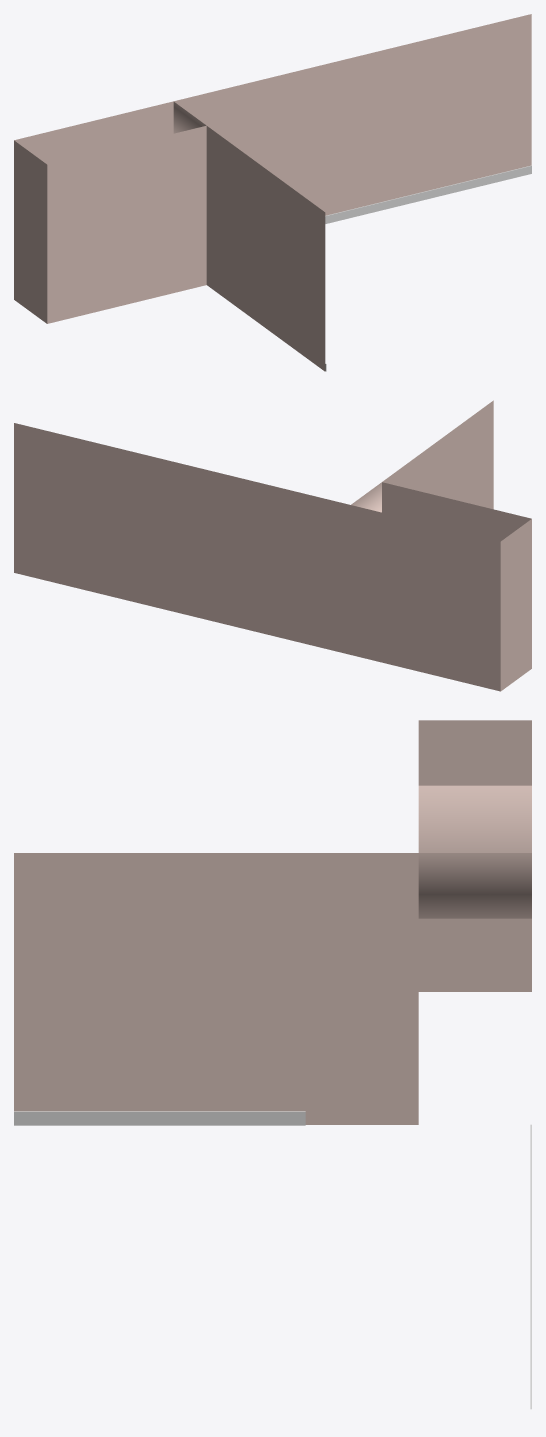
Rendered from Fixed_Walls.fbx.
3 renders of one model, top to bottom at view 1: azimuth 30°, elevation 25°; view 2: azimuth 150°, elevation 25°; view 3: azimuth 270°, elevation 25°, orthographic. The views are drawn at different scales.
Parts seen in each view (by area): view 1: wall.008, wall.002, board.023, wall.039; view 2: wall.008, wall.002, wall.039; view 3: wall.002, wall.008, wall.039, board.029.
Boxes of the visible parts, x1=… form: wall.008: x1=14, y1=14, x2=531, y2=323; wall.002: x1=47, y1=125, x2=325, y2=371; board.023: x1=325, y1=165, x2=531, y2=223; wall.039: x1=173, y1=102, x2=206, y2=133; wall.008: x1=14, y1=423, x2=531, y2=691; wall.002: x1=382, y1=400, x2=531, y2=541; wall.039: x1=351, y1=482, x2=381, y2=512; wall.002: x1=14, y1=853, x2=418, y2=1124; wall.008: x1=418, y1=720, x2=531, y2=991; wall.039: x1=418, y1=785, x2=531, y2=918; board.029: x1=14, y1=1111, x2=305, y2=1125.
Size of the model in its own units: 900 by 265 by 458.
